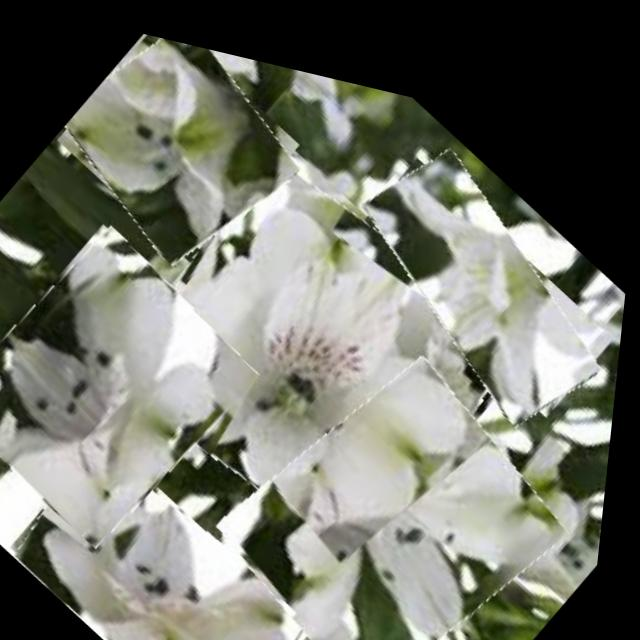Flower: (90, 87, 558, 599), (208, 287, 594, 640), (0, 191, 276, 572), (327, 107, 637, 420), (7, 406, 346, 640), (42, 11, 320, 290)
